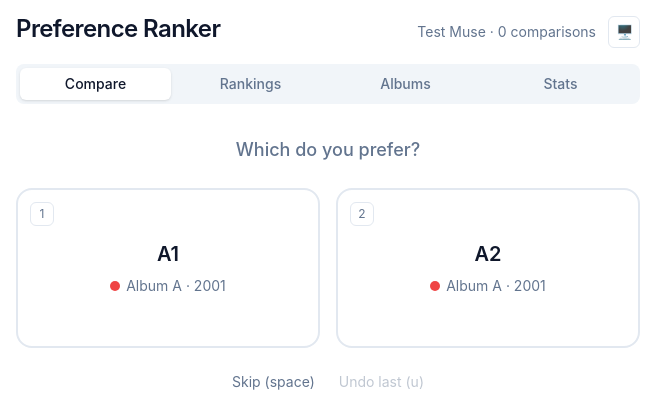
Scenario: App › shows the albums view aggregated from song scores
Click the button with aria-label "choose ".
click(168, 268)  # box [16,188,320,348]
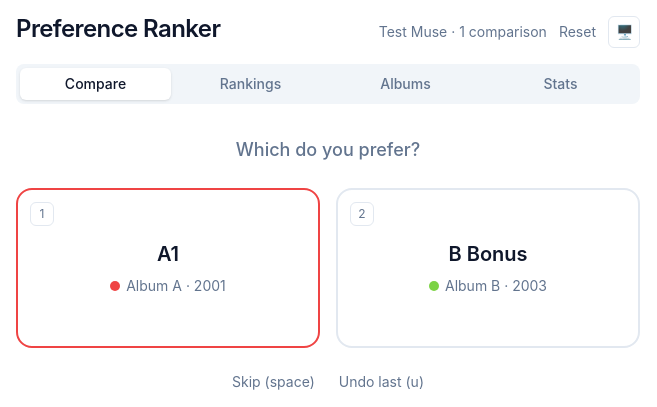
Click the button "Albums".
click(406, 84)  # box [330,68,481,100]
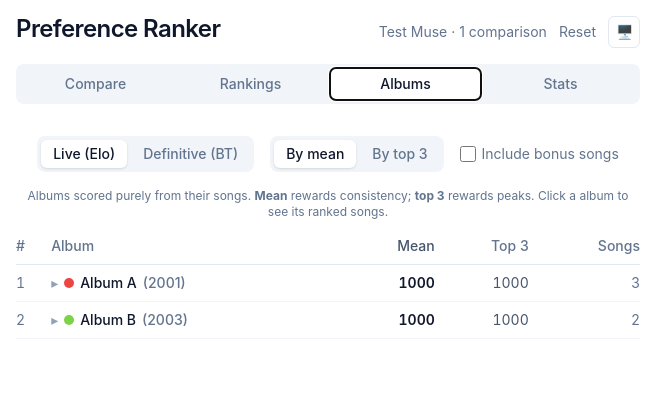
Expected: the text "rewards consistency" is shown, [287,188,415,203]
